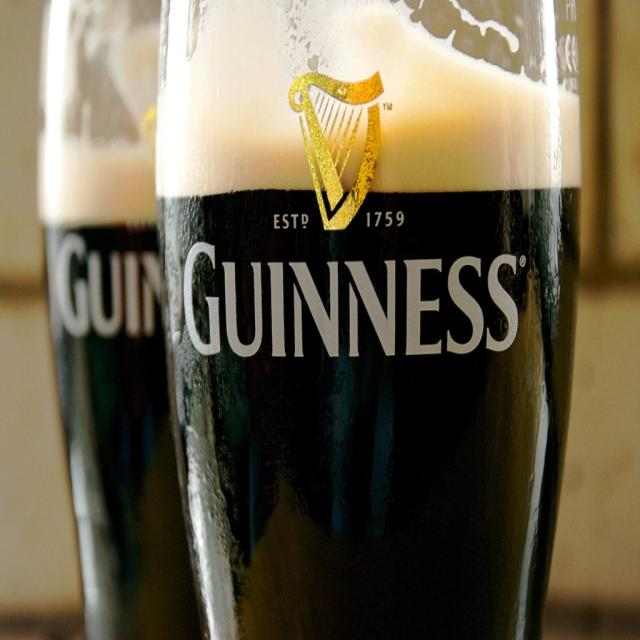guiness: (177, 67, 527, 366), (53, 231, 164, 340)
